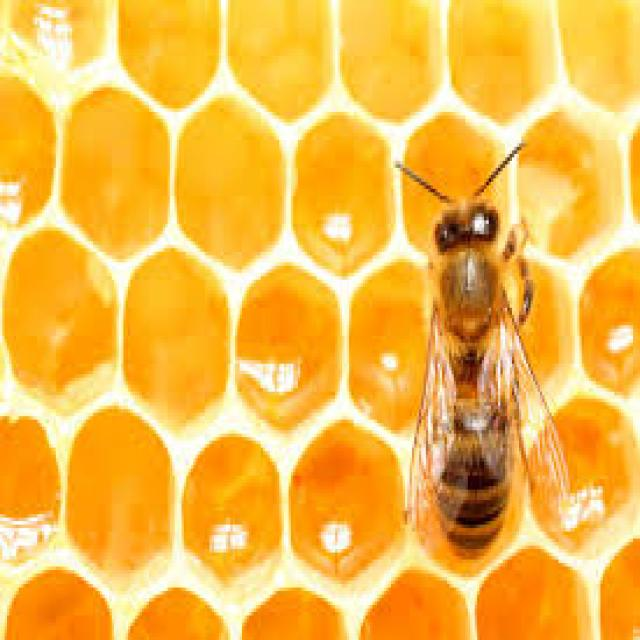Bees: (392, 148, 568, 560)
